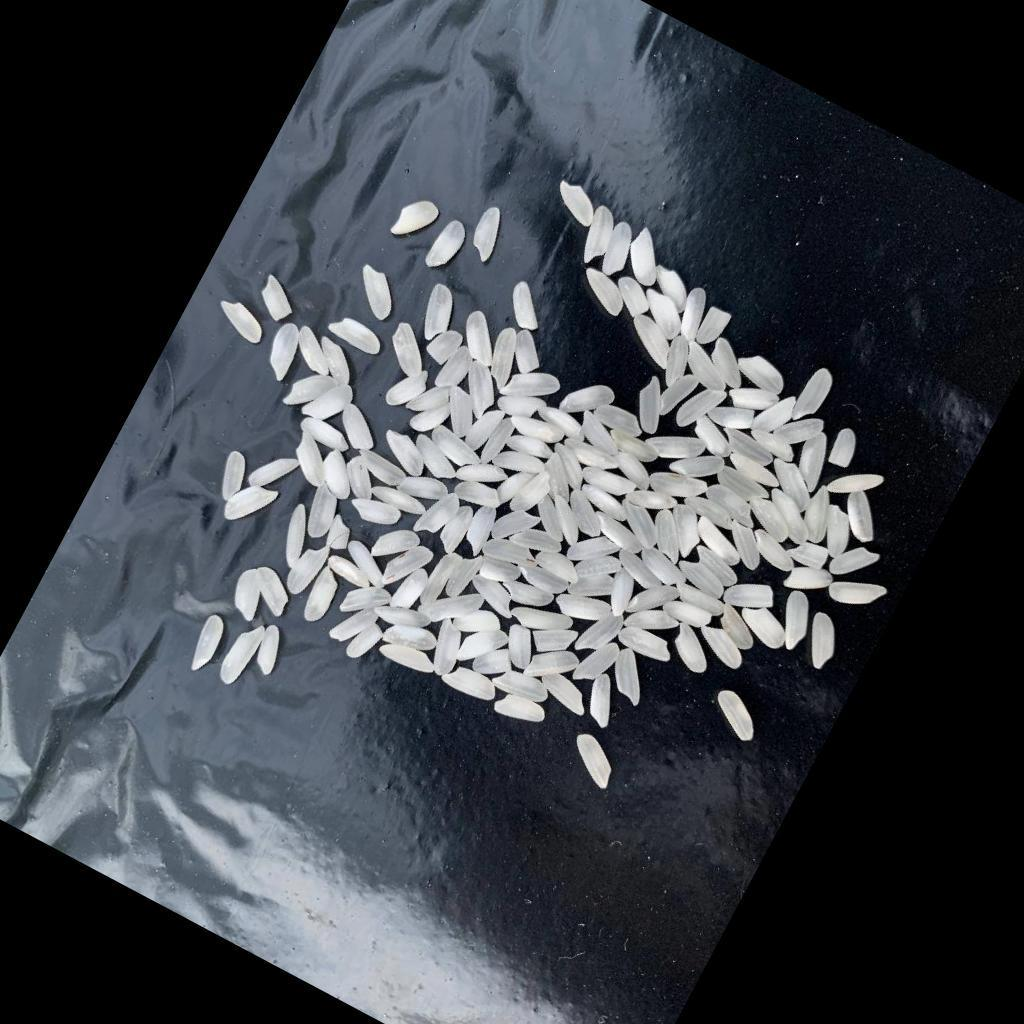rice: (417, 572, 489, 640), (500, 358, 565, 419), (759, 456, 823, 517), (619, 227, 677, 292), (767, 590, 824, 656), (508, 594, 576, 649), (602, 647, 661, 710), (562, 732, 625, 791), (216, 620, 269, 690), (452, 309, 512, 370), (281, 363, 341, 424), (300, 372, 359, 434), (271, 503, 324, 572), (381, 536, 438, 600), (347, 265, 407, 325), (558, 372, 619, 431), (621, 314, 683, 372), (705, 690, 768, 747), (688, 517, 753, 572), (477, 326, 530, 393), (455, 619, 513, 680), (758, 489, 820, 546), (451, 361, 508, 423), (673, 379, 729, 442), (675, 341, 738, 397), (647, 459, 711, 514), (644, 418, 708, 473), (787, 430, 840, 496), (412, 284, 466, 348), (223, 476, 280, 536), (795, 613, 850, 675), (421, 618, 474, 682), (284, 432, 342, 490), (382, 323, 439, 382), (524, 639, 583, 696), (826, 567, 888, 621), (575, 602, 629, 664), (834, 490, 891, 548), (721, 570, 781, 625), (627, 376, 680, 438), (554, 582, 616, 635), (574, 207, 625, 271), (641, 509, 697, 567), (312, 447, 368, 505), (413, 487, 466, 548), (691, 622, 753, 674), (259, 321, 310, 384), (795, 485, 846, 548), (585, 509, 649, 559), (663, 622, 720, 678), (331, 403, 388, 459), (248, 446, 303, 504), (307, 336, 365, 391), (610, 499, 669, 553), (748, 387, 801, 447), (376, 428, 436, 481), (481, 530, 543, 581), (700, 482, 763, 532), (491, 663, 554, 713), (287, 326, 344, 381), (827, 459, 885, 513), (657, 504, 711, 562), (406, 435, 466, 487), (572, 634, 624, 694), (212, 296, 273, 347), (296, 483, 347, 544), (426, 425, 488, 475), (283, 539, 332, 602), (243, 565, 299, 620), (489, 501, 544, 557), (184, 614, 232, 678), (790, 366, 838, 430), (377, 635, 441, 683), (575, 268, 634, 320), (669, 442, 728, 494), (577, 672, 629, 731), (338, 540, 397, 592), (734, 603, 794, 654), (464, 571, 524, 622), (536, 669, 597, 719), (440, 661, 502, 710), (391, 193, 444, 250), (642, 265, 699, 318), (383, 361, 435, 419), (741, 495, 800, 546), (596, 221, 645, 282), (501, 281, 555, 336), (703, 338, 758, 392), (827, 537, 882, 591), (811, 506, 863, 563), (435, 385, 487, 442), (330, 597, 382, 654), (382, 615, 441, 665), (733, 350, 793, 399), (373, 594, 434, 642), (526, 494, 580, 548), (527, 615, 582, 668), (559, 489, 615, 541), (611, 547, 670, 596), (423, 217, 471, 277), (670, 287, 718, 347), (299, 566, 346, 627), (370, 522, 423, 576), (717, 522, 772, 574), (550, 179, 606, 230), (328, 313, 388, 360), (533, 452, 585, 506), (340, 578, 394, 630), (508, 409, 569, 455), (227, 567, 276, 624), (560, 436, 622, 481), (465, 207, 512, 266), (674, 557, 733, 604), (581, 460, 641, 506), (542, 495, 594, 548), (773, 405, 827, 456), (569, 528, 623, 579), (543, 442, 597, 493), (725, 377, 781, 426), (626, 600, 682, 649), (455, 452, 511, 501), (510, 467, 558, 524), (337, 453, 388, 506), (711, 605, 765, 655), (494, 383, 550, 431), (654, 368, 701, 425), (635, 546, 692, 593), (713, 465, 772, 510), (253, 276, 304, 328), (453, 600, 507, 649), (718, 427, 778, 471), (533, 402, 593, 446), (598, 566, 645, 622), (492, 441, 548, 488), (397, 466, 453, 513), (407, 374, 457, 426), (370, 480, 430, 523), (688, 546, 744, 592), (493, 689, 549, 735), (349, 490, 405, 536), (459, 504, 504, 561), (687, 414, 740, 462), (434, 343, 480, 398), (388, 563, 434, 618), (499, 574, 556, 618), (607, 275, 658, 324), (783, 558, 835, 606), (567, 564, 619, 612), (574, 545, 626, 593), (748, 530, 802, 576), (573, 413, 627, 459), (682, 492, 741, 534), (453, 474, 508, 519), (463, 403, 508, 458), (510, 522, 565, 567), (435, 503, 479, 559), (298, 414, 355, 457), (514, 560, 571, 603), (470, 640, 520, 689), (618, 627, 676, 669), (478, 415, 520, 473), (247, 625, 292, 679), (604, 450, 659, 494), (576, 484, 632, 527), (672, 580, 729, 622), (626, 480, 680, 524), (504, 331, 551, 381), (496, 623, 543, 673), (727, 452, 784, 493), (211, 451, 254, 505), (593, 402, 648, 444), (707, 394, 758, 439), (495, 463, 539, 514), (505, 428, 558, 470), (410, 394, 455, 443), (606, 428, 661, 468), (747, 427, 799, 467), (664, 595, 716, 635), (533, 547, 584, 587), (476, 552, 524, 593), (345, 619, 386, 667), (425, 326, 467, 371), (786, 535, 832, 575), (325, 555, 374, 592), (826, 427, 865, 472), (695, 307, 732, 352)
